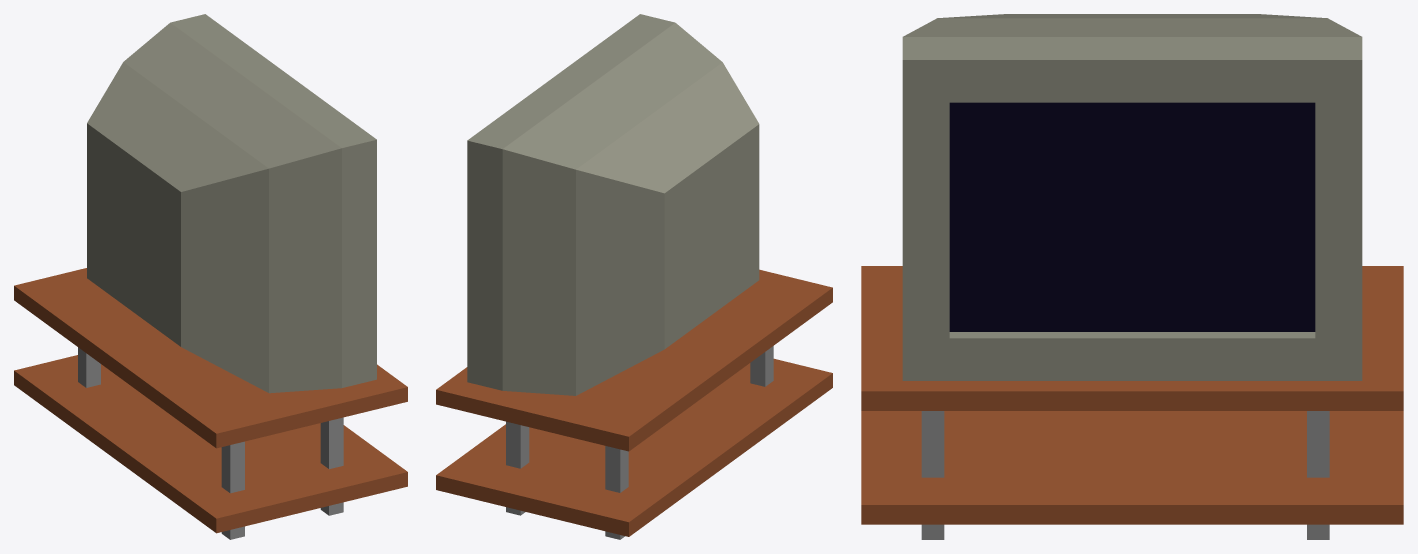
3 renders of one model, left to right at view 1: azimuth 30°, elevation 25°; view 2: azimuth 150°, elevation 25°; view 3: azimuth 270°, elevation 25°, orthographic. The views are drawn at different scales.
Visible parts, largest first — view 1: tv; view 2: tv; view 3: tv.
Part boxes in pixels (x1,y1,x2,y2): tv: (14,14,407,539); tv: (436,14,832,539); tv: (861,14,1403,539).
Size of the model in its own units: 0.5849 by 1.08 by 1.07.
